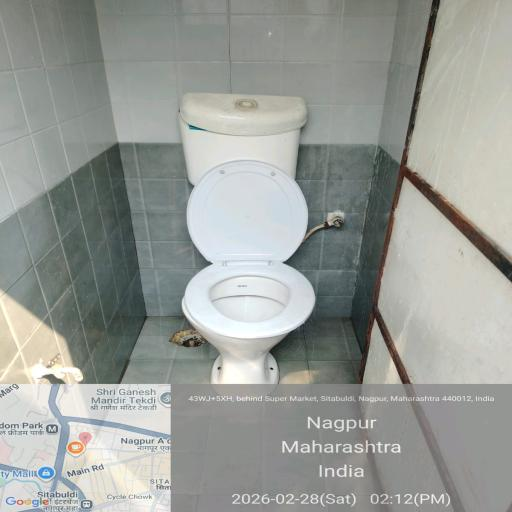clean_floor: (11, 11, 221, 512), (97, 331, 449, 512)
clean_western: (136, 45, 328, 462)
